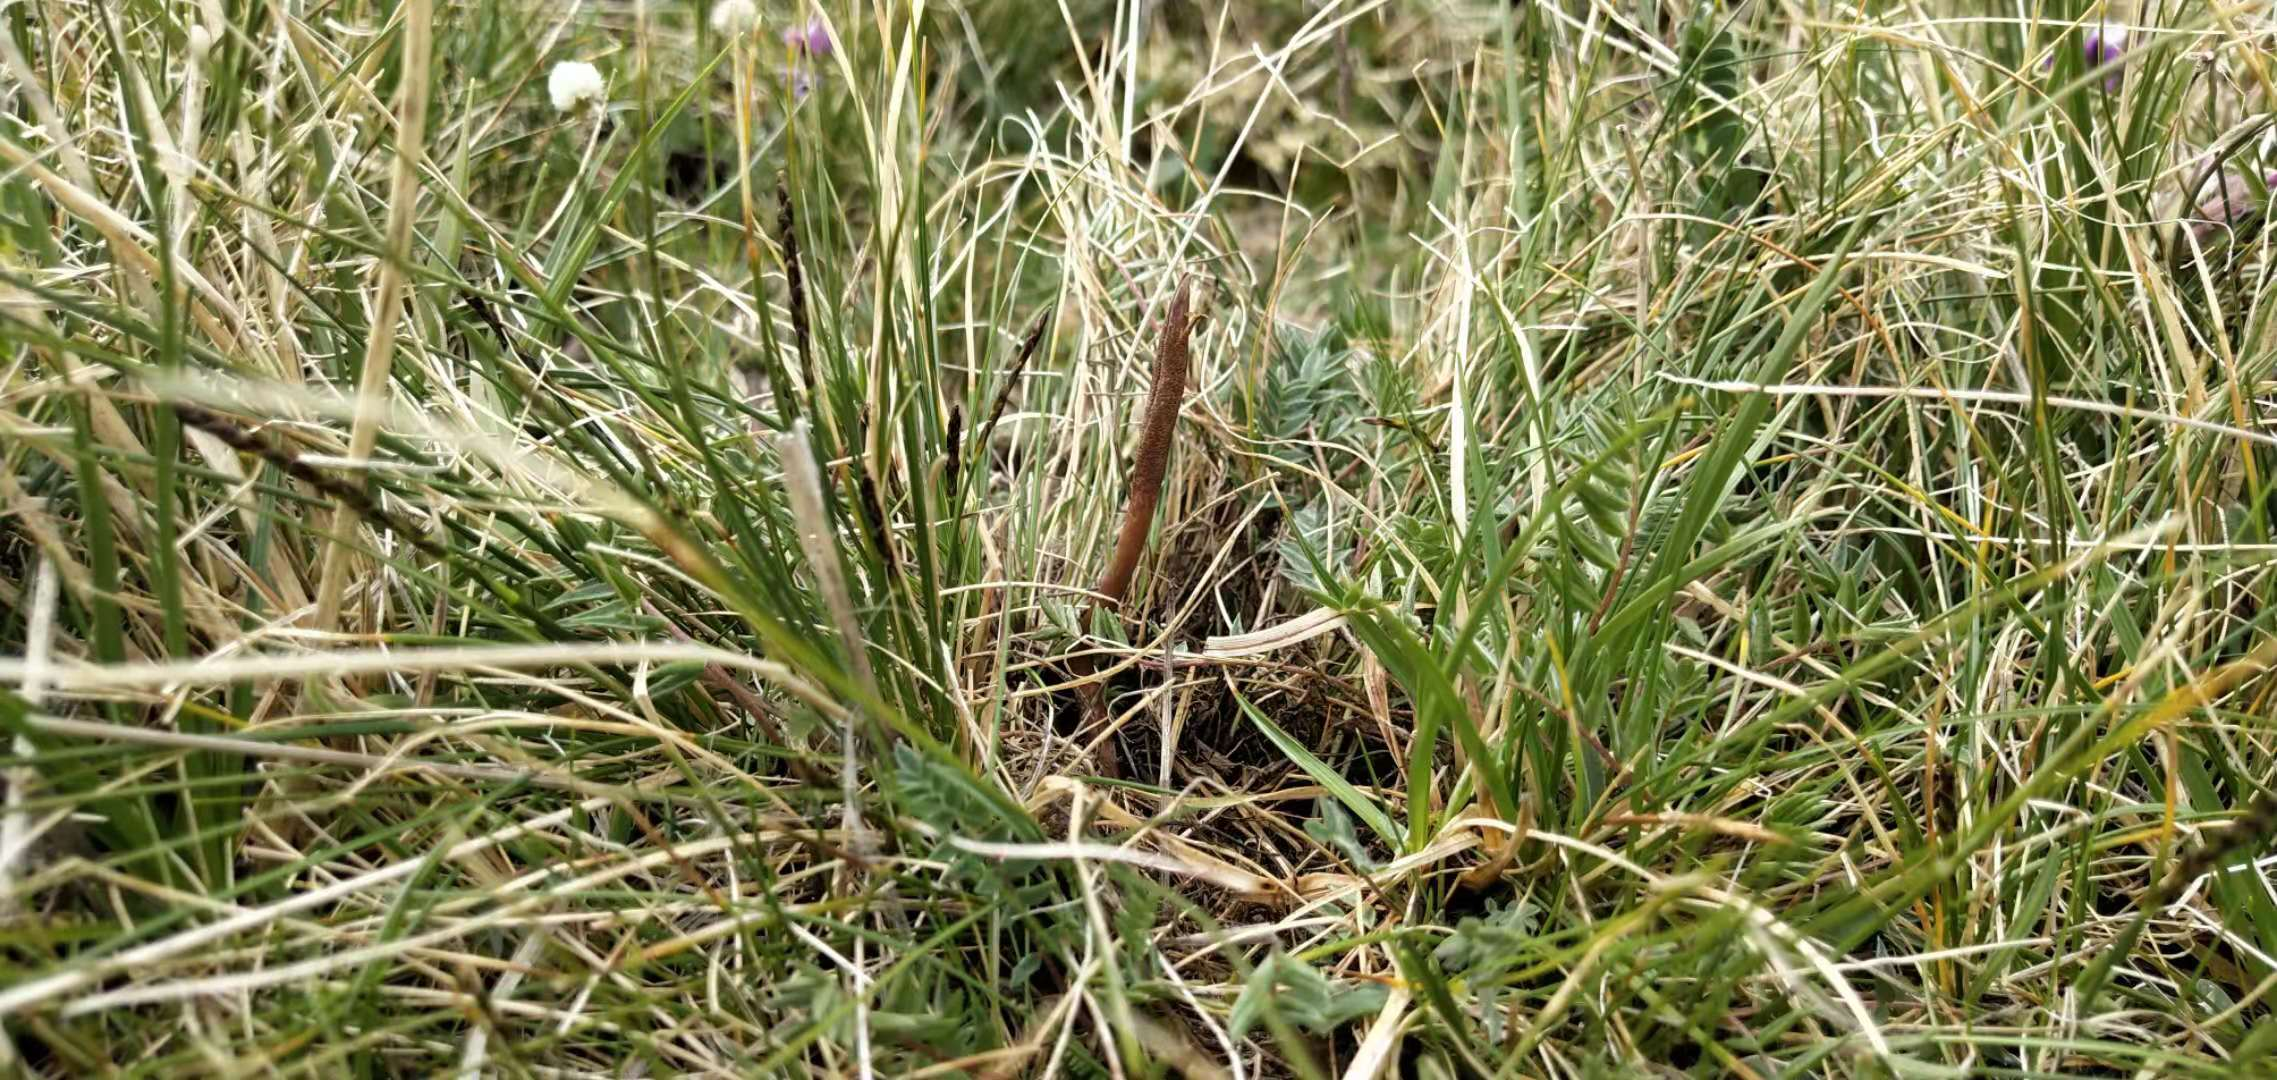cpf: (1101, 276, 1197, 602)
